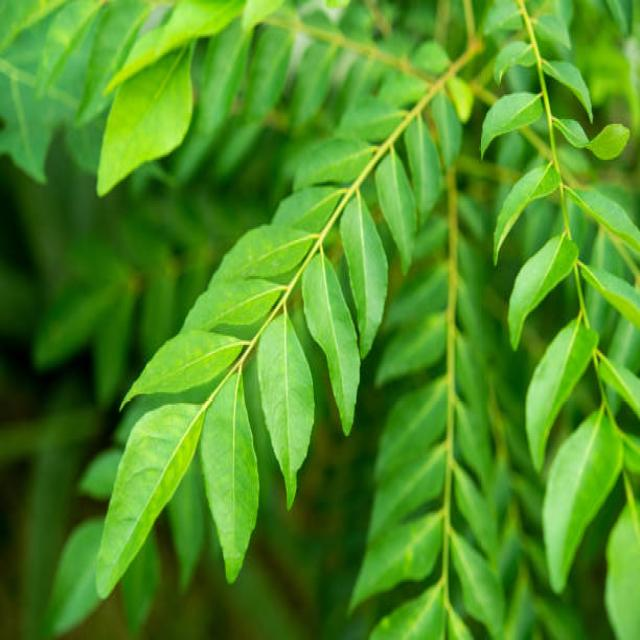Neem-Tree: (3, 3, 640, 640)
